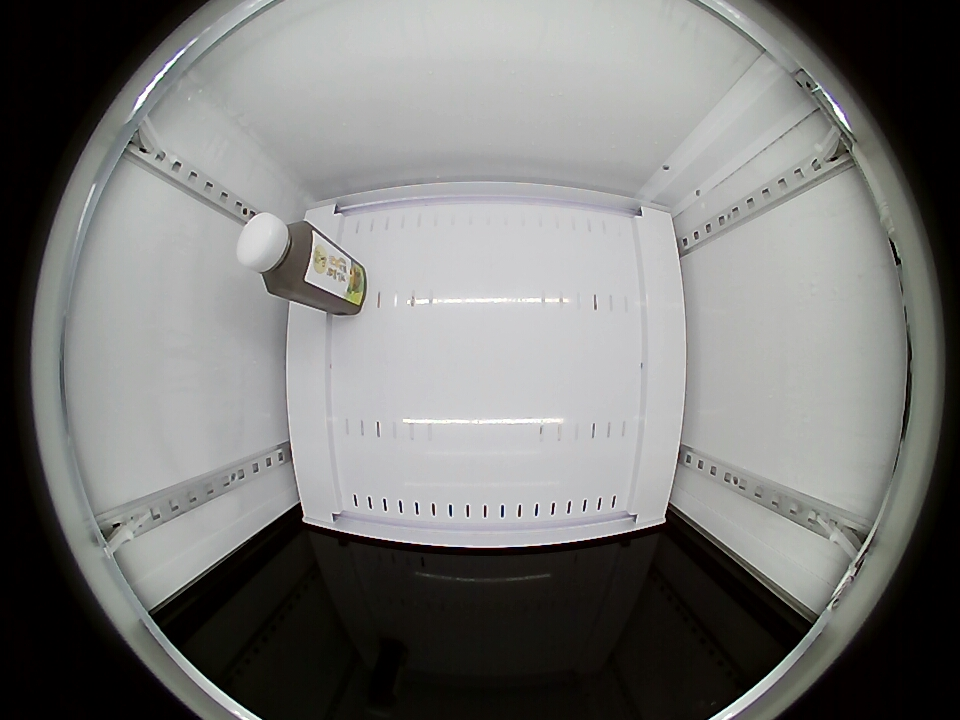youyanggudong: (236, 212, 316, 297)
